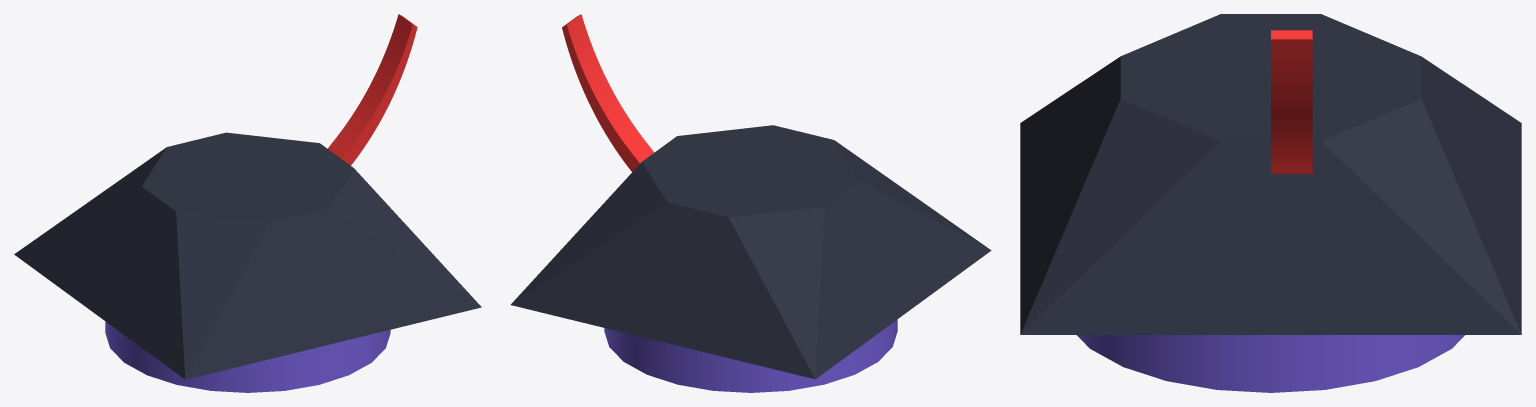
File: Graduation.fbx
3 views of the same model, side by side, from view 1: azimuth 30°, elevation 25°; view 2: azimuth 150°, elevation 25°; view 3: azimuth 270°, elevation 25° (orthographic). The views are drawn at different scales.
Parts seen in each view (by area): view 1: mergedBlocks; view 2: mergedBlocks; view 3: mergedBlocks.
Boxes of the visible parts, left/top/right/bottom form: mergedBlocks: left=14, top=14, right=481, bottom=392; mergedBlocks: left=510, top=14, right=991, bottom=392; mergedBlocks: left=1020, top=14, right=1521, bottom=392.
Bounding box in the file's own units: 12.86 × 10.36 × 12.
